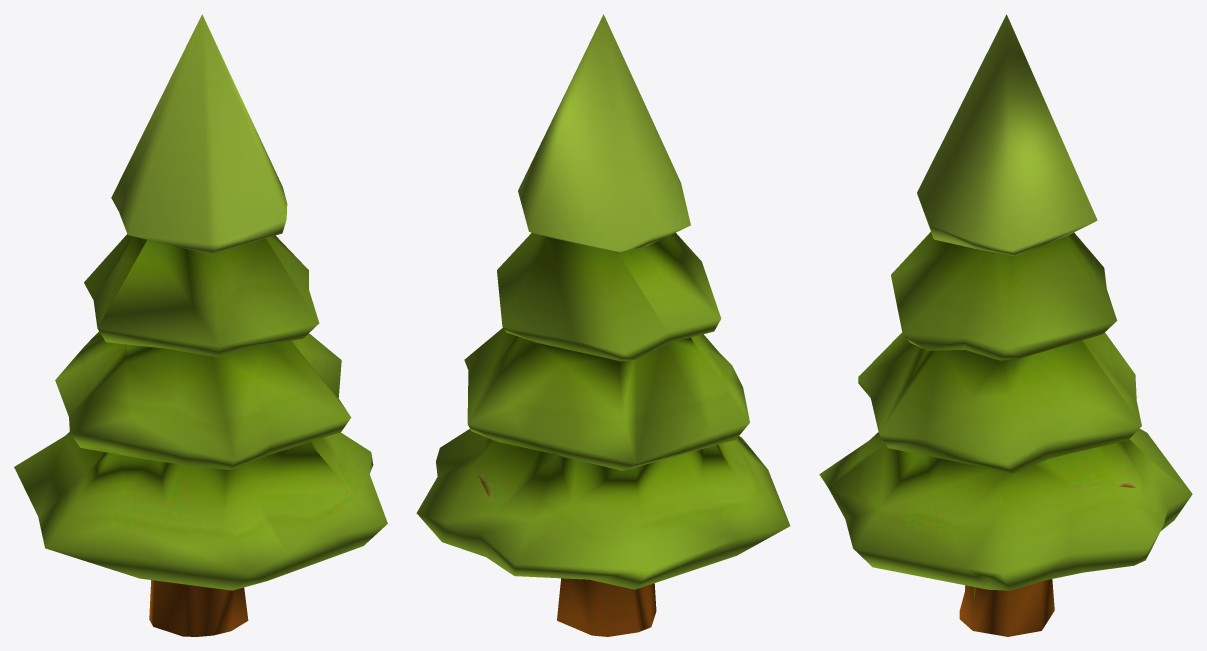
File: tree_pine.glb
3 views of the same model, side by side, from view 1: azimuth 30°, elevation 25°; view 2: azimuth 150°, elevation 25°; view 3: azimuth 270°, elevation 25° (orthographic).
Parts seen in each view (by area): view 1: tripo_node_cd350bc9-f31d-43d7-9a42-8a3f5f17f303; view 2: tripo_node_cd350bc9-f31d-43d7-9a42-8a3f5f17f303; view 3: tripo_node_cd350bc9-f31d-43d7-9a42-8a3f5f17f303.
Boxes of the visible parts, x1,y1,x2,y2 form: tripo_node_cd350bc9-f31d-43d7-9a42-8a3f5f17f303: (14,14,387,636); tripo_node_cd350bc9-f31d-43d7-9a42-8a3f5f17f303: (416,14,790,636); tripo_node_cd350bc9-f31d-43d7-9a42-8a3f5f17f303: (819,14,1192,636).
Bounding box in the file's own units: 0.5879 × 0.998 × 0.5605.
1 material, 1 textured.
